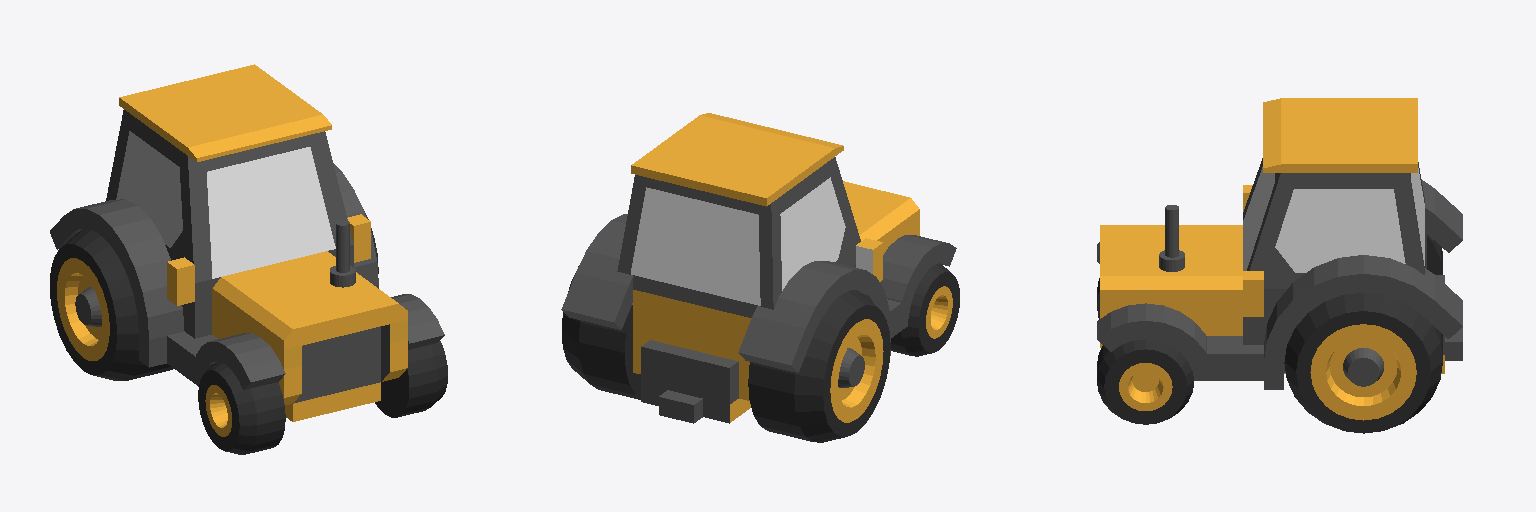
The model's file is tractorShovel.obj.
3 views of the same model, side by side, from view 1: azimuth 30°, elevation 25°; view 2: azimuth 150°, elevation 25°; view 3: azimuth 270°, elevation 25° (orthographic).
Visible parts, largest first — view 1: body, skirts, wheel_backRight, wheel_frontRight, wheel_frontLeft; view 2: body, skirts, wheel_backRight, wheel_backLeft, wheel_frontRight; view 3: body, skirts, wheel_backLeft, wheel_frontLeft.
Part boxes in pixels (left/top/right/bottom): body: left=106, top=64, right=407, bottom=421; skirts: left=50, top=163, right=444, bottom=389; wheel_backRight: left=50, top=229, right=173, bottom=380; wheel_frontRight: left=198, top=362, right=285, bottom=454; wheel_frontLeft: left=375, top=341, right=447, bottom=417; body: left=617, top=113, right=919, bottom=423; skirts: left=561, top=214, right=956, bottom=372; wheel_backRight: left=748, top=290, right=890, bottom=442; wheel_backLeft: left=562, top=266, right=640, bottom=399; wheel_frontRight: left=891, top=263, right=959, bottom=356; body: left=1100, top=98, right=1462, bottom=373; skirts: left=1097, top=180, right=1462, bottom=389; wheel_backLeft: left=1284, top=292, right=1442, bottom=433; wheel_frontLeft: left=1097, top=339, right=1193, bottom=424.
Bounding box in the file's own units: 1.66 × 1.51 × 2.02.